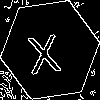X: (25, 25, 62, 75)
